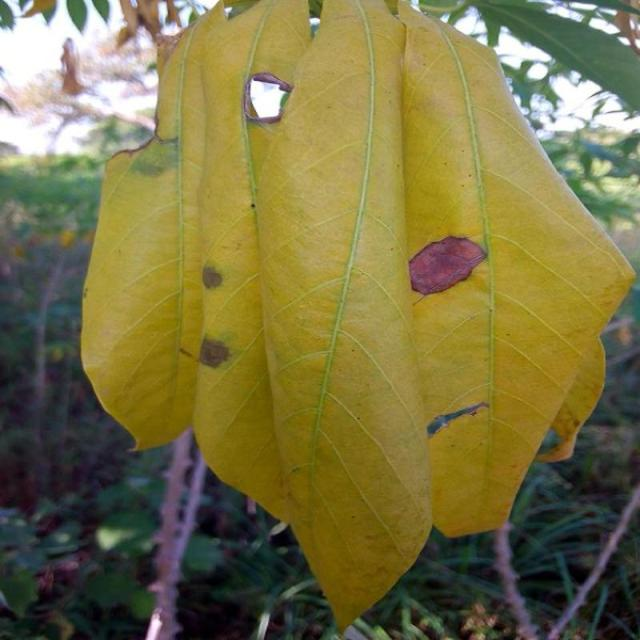cassava leaf: (80, 0, 637, 634)
